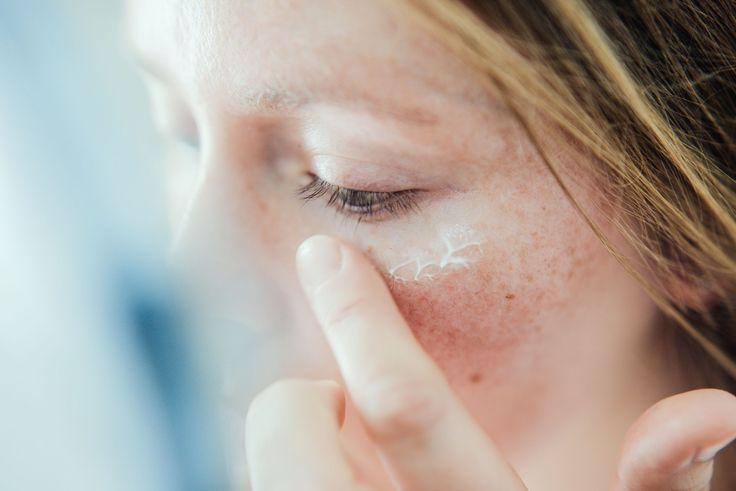Dry-Skin: (394, 247, 527, 309), (487, 119, 552, 221)
